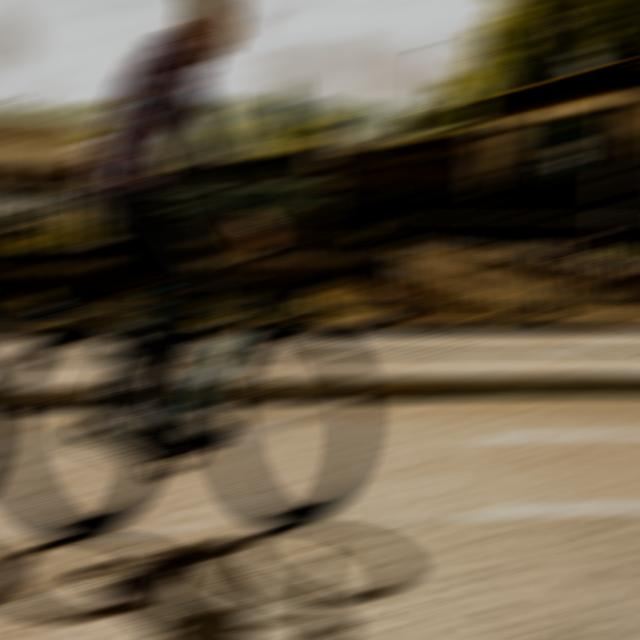Without Helmet: (179, 2, 246, 66)
